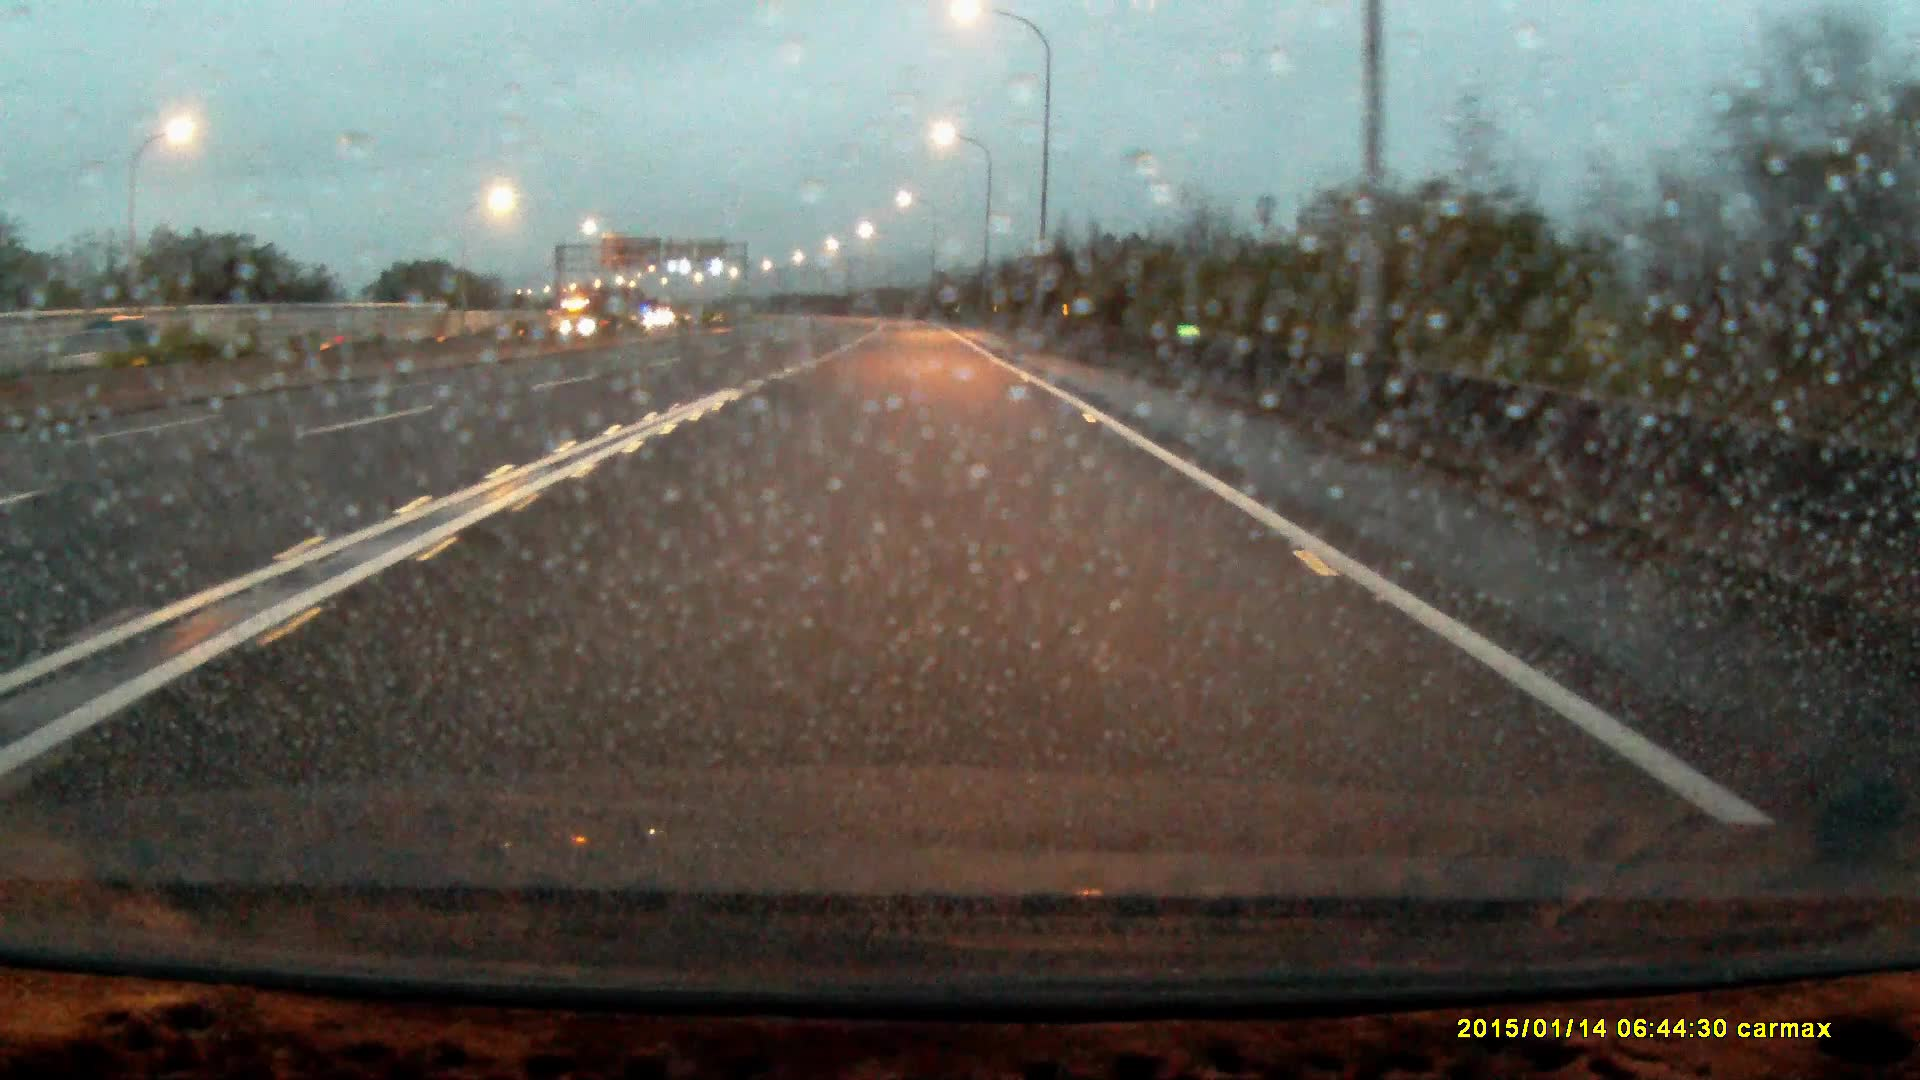vehicle: (556, 295, 611, 345)
